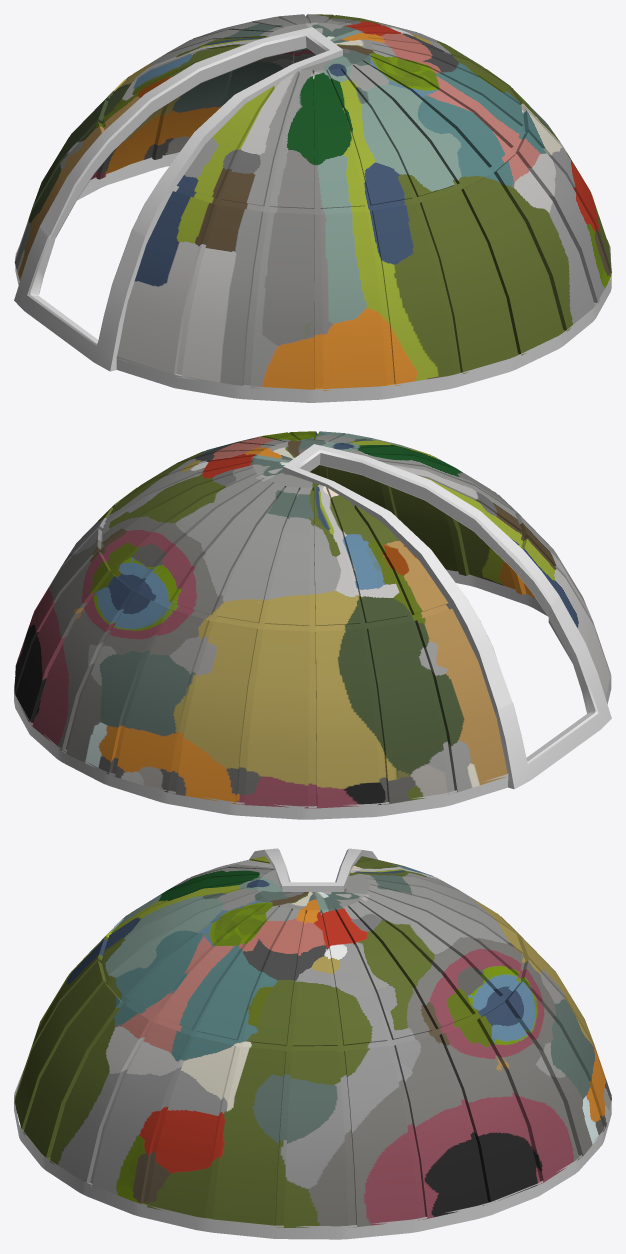
File: Observatory_Dome.fbx
3 renders of one model, top to bottom at view 1: azimuth 30°, elevation 25°; view 2: azimuth 150°, elevation 25°; view 3: azimuth 270°, elevation 25°, orthographic.
Parts seen in each view (by area): view 1: observatoryDome, observatoryRim; view 2: observatoryDome, observatoryRim; view 3: observatoryDome, observatoryRim.
Boxes of the visible parts, x1,y1,x2,y2 form: observatoryDome: [14, 14, 611, 390]; observatoryRim: [14, 27, 611, 402]; observatoryDome: [14, 431, 610, 808]; observatoryRim: [14, 444, 611, 819]; observatoryDome: [14, 856, 611, 1227]; observatoryRim: [14, 848, 611, 1239].
Bounding box in the file's own units: 32.1 × 14.06 × 32.48.
